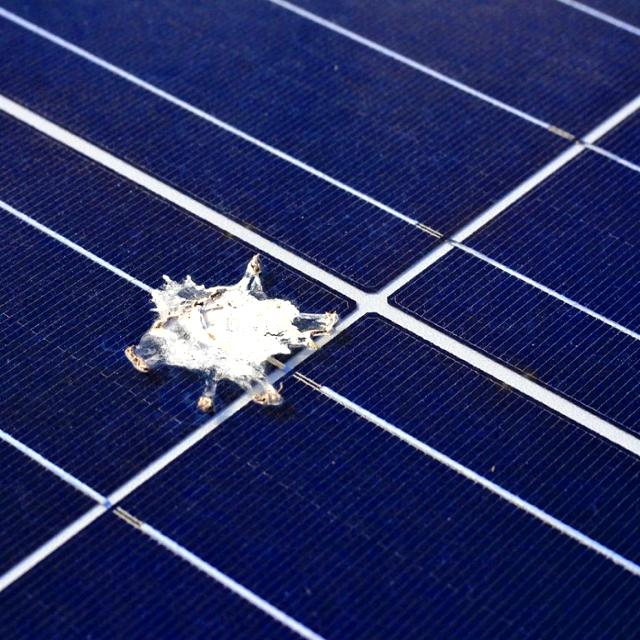bird: (125, 244, 353, 423)
